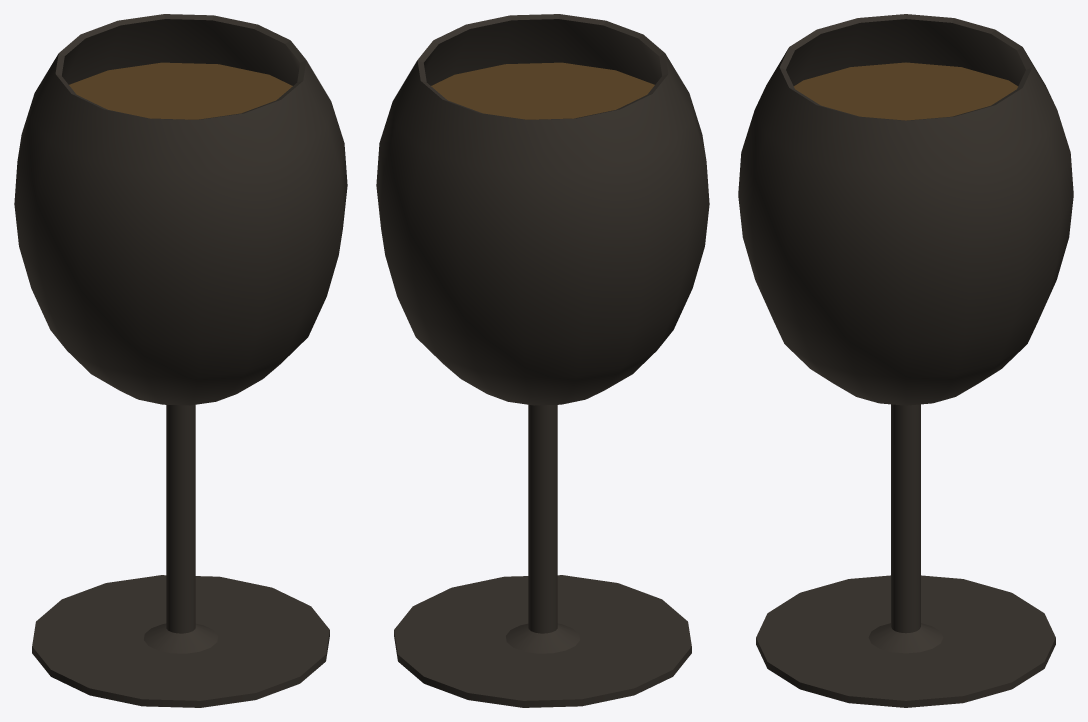
The model's file is BgMD_Glass02.fbx.
3 renders of one model, left to right at view 1: azimuth 30°, elevation 25°; view 2: azimuth 150°, elevation 25°; view 3: azimuth 270°, elevation 25°, orthographic.
Parts seen in each view (by area): view 1: BgMD_Grass_01, BgMD_Grass_04; view 2: BgMD_Grass_01, BgMD_Grass_04; view 3: BgMD_Grass_01, BgMD_Grass_04.
Part boxes in pixels (<box>): BgMD_Grass_01: <box>14,14,347,707</box>; BgMD_Grass_04: <box>69,62,292,119</box>; BgMD_Grass_01: <box>376,14,709,707</box>; BgMD_Grass_04: <box>431,62,654,119</box>; BgMD_Grass_01: <box>738,14,1073,707</box>; BgMD_Grass_04: <box>794,62,1017,120</box>.
Bounding box in the file's own units: 0.0895 × 0.1699 × 0.0895.
